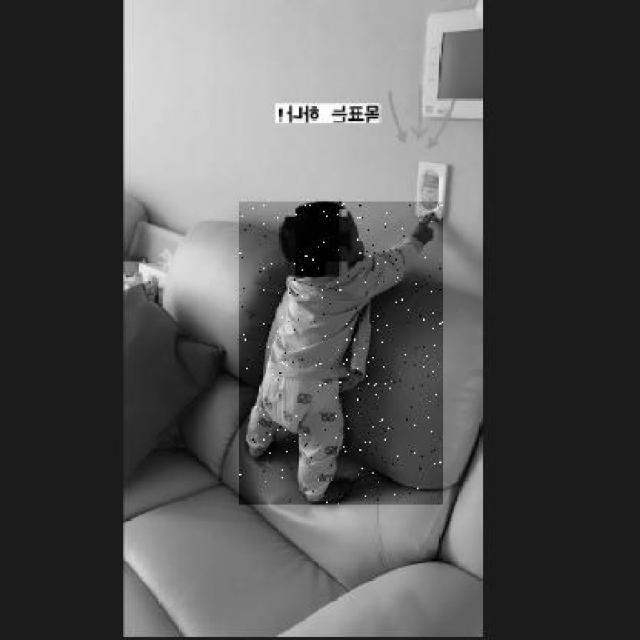child: (240, 202, 443, 505)
